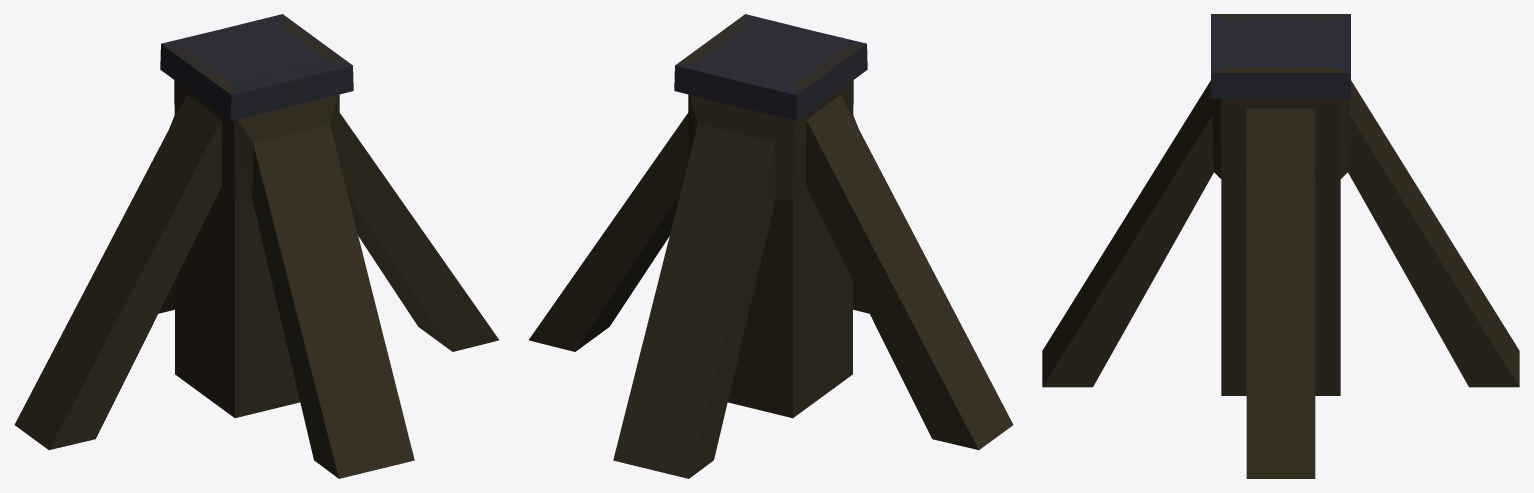
File: Tripode.fbx
3 renders of one model, left to right at view 1: azimuth 30°, elevation 25°; view 2: azimuth 150°, elevation 25°; view 3: azimuth 270°, elevation 25°, orthographic.
Visible parts, largest first — view 1: Tripode; view 2: Tripode; view 3: Tripode.
Boxes of the visible parts, x1,y1,x2,y2 form: Tripode: [14, 14, 498, 478]; Tripode: [529, 14, 1013, 478]; Tripode: [1042, 14, 1519, 478].
Bounding box in the file's own units: 866 × 604 × 798.
